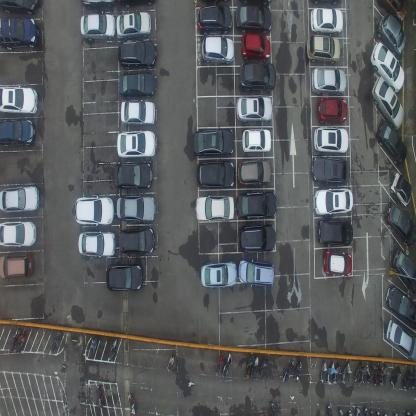car: (370, 40, 404, 92), (372, 74, 404, 129), (384, 200, 416, 247), (376, 117, 406, 166), (384, 283, 416, 327), (384, 319, 416, 363), (0, 16, 39, 51), (378, 11, 407, 57), (192, 126, 234, 157), (74, 195, 114, 226), (236, 191, 278, 220), (0, 83, 38, 115), (0, 184, 40, 214), (238, 222, 276, 253), (308, 154, 348, 183), (116, 194, 155, 223), (392, 247, 416, 294), (311, 186, 351, 214), (116, 10, 152, 41), (0, 218, 37, 248), (196, 160, 235, 188), (77, 230, 116, 258), (0, 118, 36, 148), (239, 61, 276, 90), (194, 195, 235, 221), (237, 258, 275, 286), (106, 262, 144, 290), (314, 216, 350, 245), (80, 12, 116, 41), (0, 252, 34, 282), (198, 4, 233, 33), (118, 225, 154, 253), (236, 95, 272, 123), (311, 125, 347, 153), (310, 64, 346, 92), (200, 260, 236, 288), (235, 4, 272, 30), (202, 34, 235, 63), (306, 34, 341, 61), (120, 99, 156, 125), (119, 71, 155, 97), (319, 246, 349, 276), (238, 158, 272, 184), (241, 31, 271, 60), (389, 172, 412, 208), (310, 5, 342, 30), (316, 95, 346, 121), (241, 129, 271, 153), (377, 0, 408, 23), (0, 0, 39, 15), (81, 0, 115, 11), (121, 0, 154, 9)
